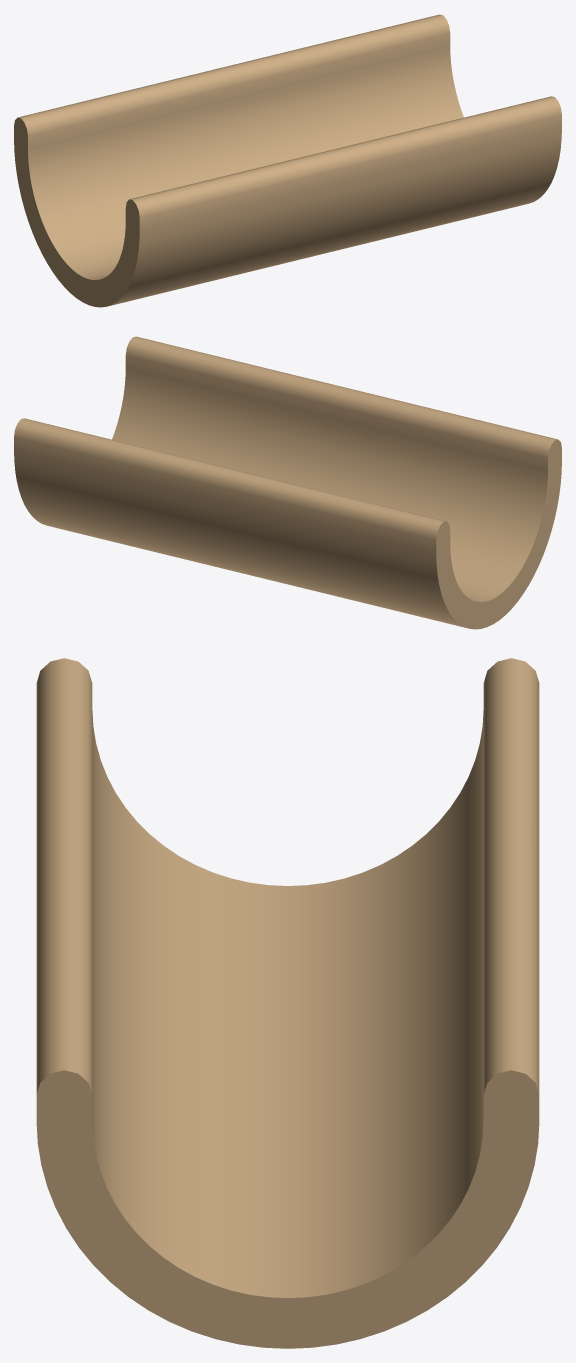
File: rail_joint_l2.glb
3 views of the same model, one above another, from view 1: azimuth 30°, elevation 25°; view 2: azimuth 150°, elevation 25°; view 3: azimuth 270°, elevation 25° (orthographic). The views are drawn at different scales.
Parts seen in each view (by area): view 1: rail_joint_l2_lod0; view 2: rail_joint_l2_lod0; view 3: rail_joint_l2_lod0.
Part boxes in pixels (<box>): rail_joint_l2_lod0: <box>14,14,561,307</box>; rail_joint_l2_lod0: <box>14,336,561,629</box>; rail_joint_l2_lod0: <box>36,658,539,1348</box>.
Size of what is drawn, in the model's own units: 0.0698 by 0.022 by 0.036.
